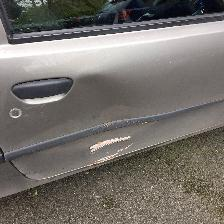dent: (71, 72, 144, 123)
